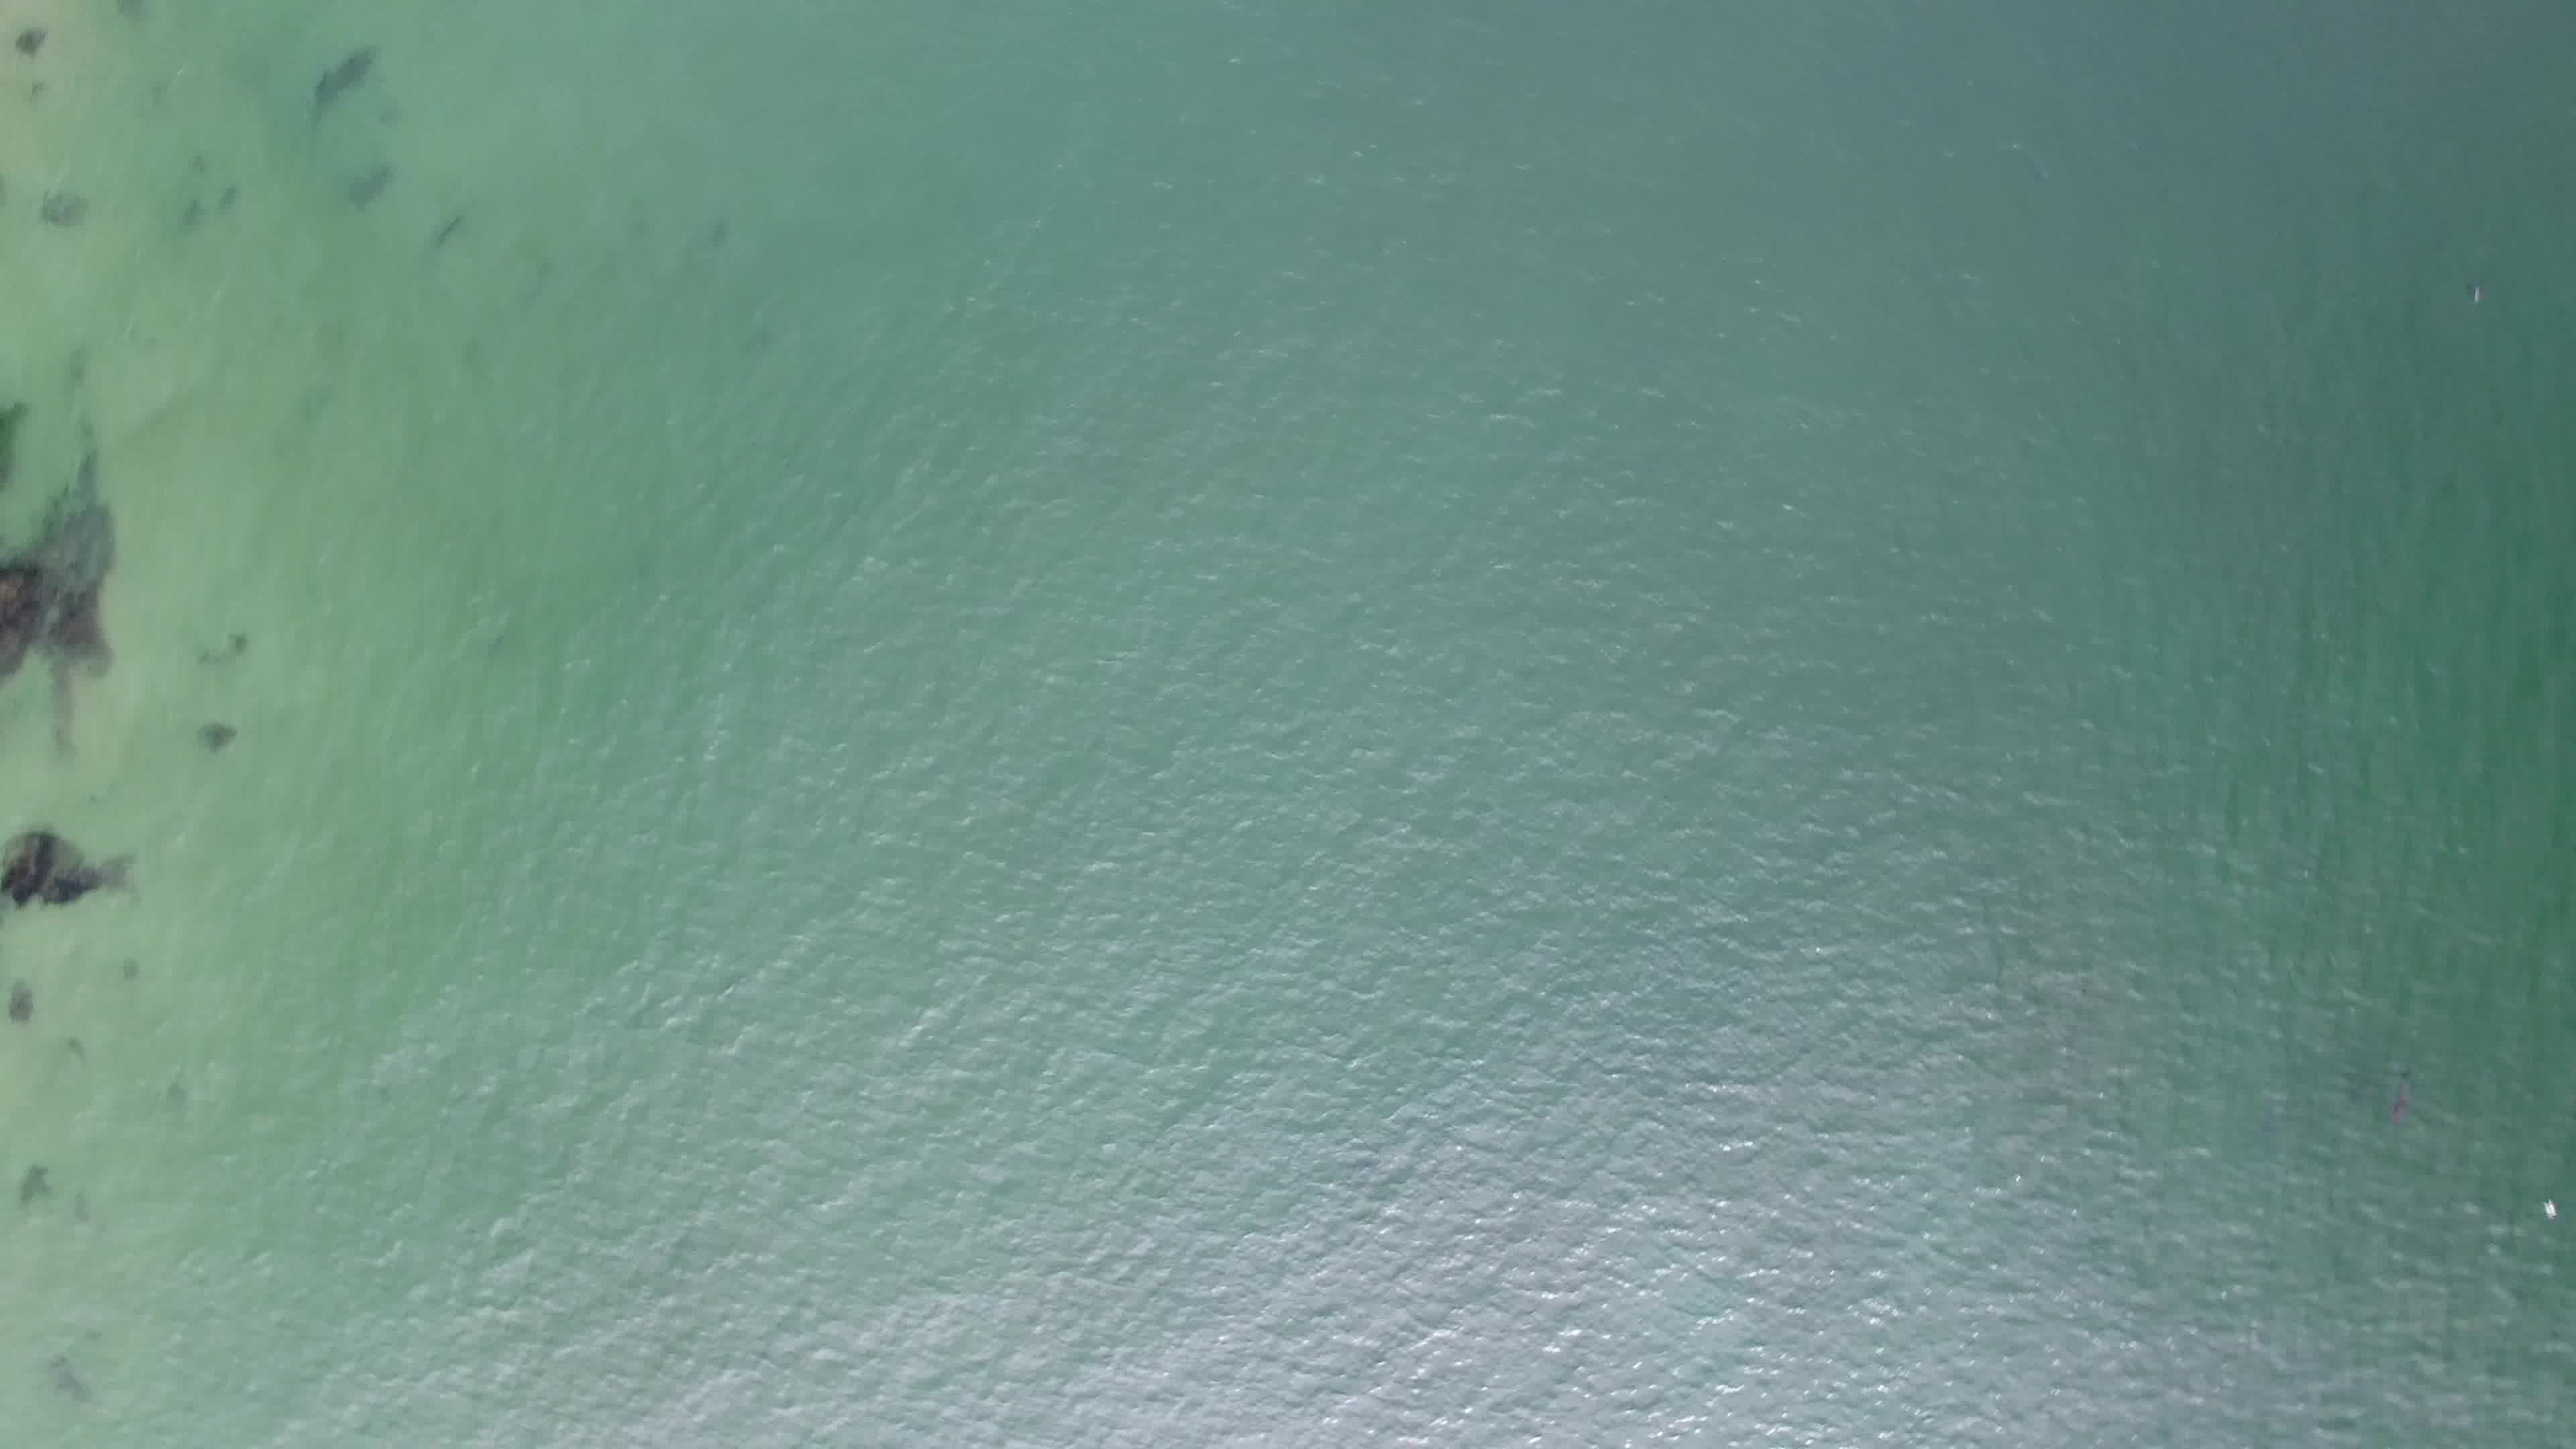dolphin: (2373, 1053, 2436, 1139)
